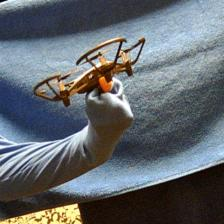drone: (32, 37, 148, 107)
